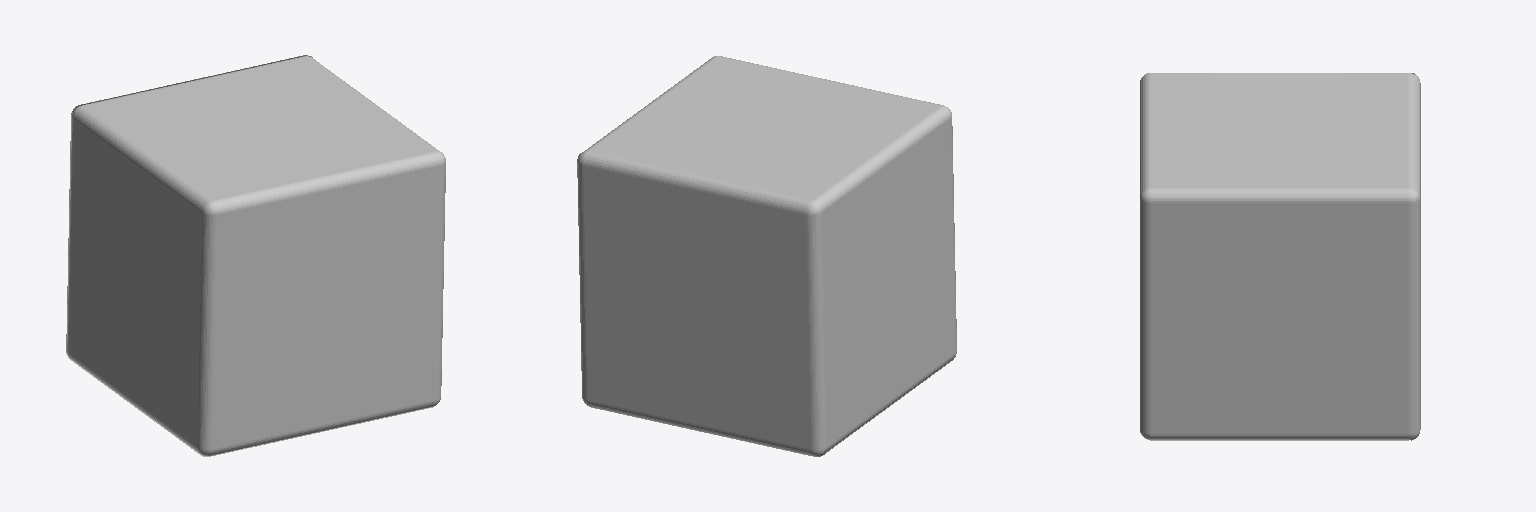
3 views of the same model, side by side, from view 1: azimuth 30°, elevation 25°; view 2: azimuth 150°, elevation 25°; view 3: azimuth 270°, elevation 25° (orthographic).
Visible parts, largest first — view 1: 000_html, 005_Box, 006_sql, 004_java2, 003_javascript; view 2: 003_javascript, 006_sql, 005_Box, 004_java2; view 3: 001_python, 005_Box, 004_java2, 003_javascript.
Part boxes in pixels (left/top/right/bottom): 000_html: left=223, top=175, right=434, bottom=438; 005_Box: left=67, top=56, right=445, bottom=455; 006_sql: left=74, top=134, right=197, bottom=438; 004_java2: left=116, top=80, right=400, bottom=177; 003_javascript: left=66, top=55, right=312, bottom=359; 003_javascript: left=577, top=153, right=824, bottom=456; 006_sql: left=830, top=131, right=953, bottom=435; 005_Box: left=582, top=56, right=956, bottom=453; 004_java2: left=625, top=78, right=909, bottom=175; 001_python: left=1158, top=210, right=1400, bottom=428; 005_Box: left=1140, top=73, right=1414, bottom=439; 004_java2: left=1210, top=73, right=1344, bottom=183; 003_javascript: left=1410, top=73, right=1420, bottom=440.
Bounding box in the file's own units: 103 × 103 × 100.